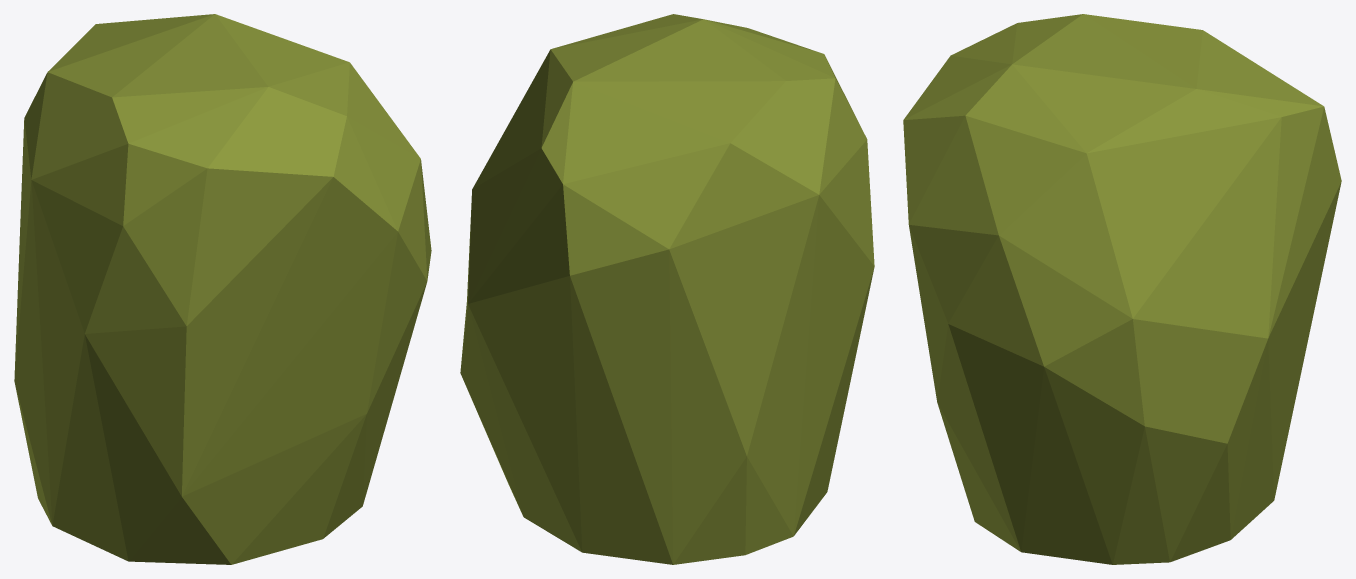
File: ea_swamp_grass_02e_pre__3__lev1.glb
3 views of the same model, side by side, from view 1: azimuth 30°, elevation 25°; view 2: azimuth 150°, elevation 25°; view 3: azimuth 270°, elevation 25° (orthographic). The views are drawn at different scales.
Visible parts, largest first — view 1: ea_swamp_grass_02e_pre__3__lev1; view 2: ea_swamp_grass_02e_pre__3__lev1; view 3: ea_swamp_grass_02e_pre__3__lev1.
Part boxes in pixels (x1=…): ea_swamp_grass_02e_pre__3__lev1: x1=14, y1=14, x2=431, y2=564; ea_swamp_grass_02e_pre__3__lev1: x1=460, y1=14, x2=874, y2=564; ea_swamp_grass_02e_pre__3__lev1: x1=903, y1=14, x2=1341, y2=564.
Size of the model in its own units: 1.18 by 1.41 by 1.27.
Materials: 1 (1 with a texture image).
